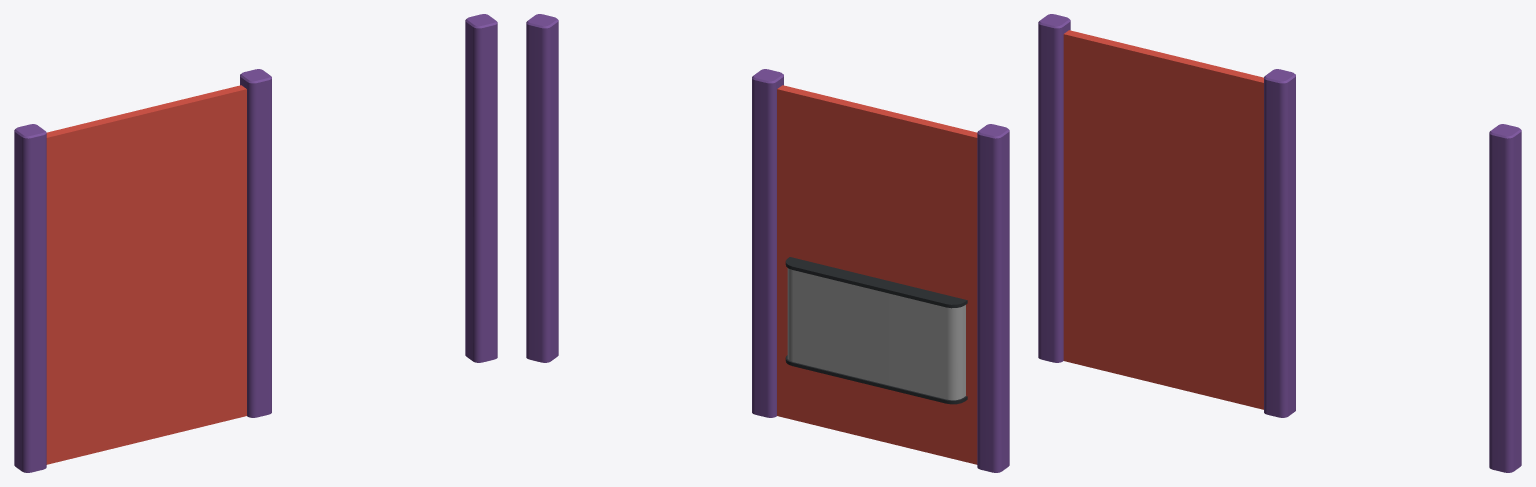
Rendered from SM_Gate.fbx.
The picture shows the model from 3 angles, left to right: view 1: azimuth 30°, elevation 25°; view 2: azimuth 150°, elevation 25°; view 3: azimuth 330°, elevation 25°; orthographic projection.
Parts seen in each view (by area): view 1: SM_Gate; view 2: SM_Gate; view 3: SM_Gate.
Boxes of the visible parts, x1,y1,x2,y2 form: SM_Gate: (14, 14, 497, 472); SM_Gate: (526, 14, 1009, 472); SM_Gate: (1038, 14, 1521, 472).
Size of the model in its own units: 598 by 404 by 41.35.
